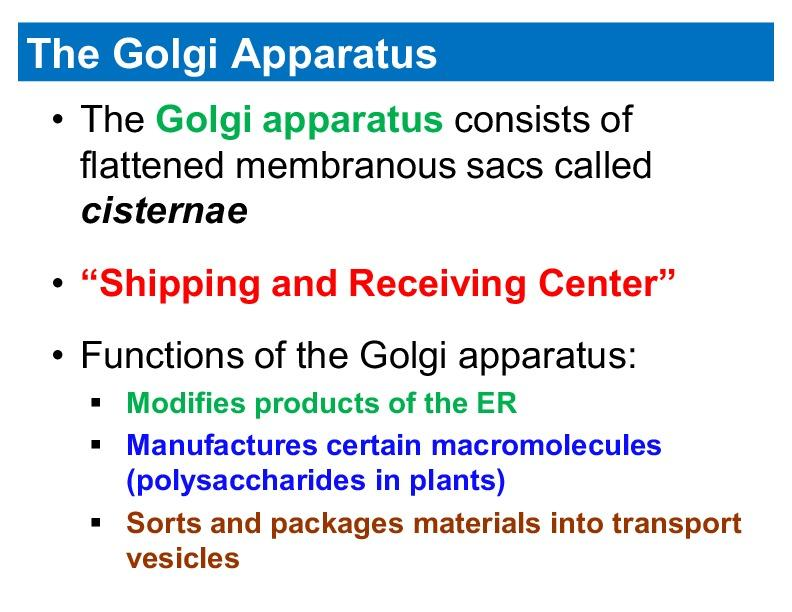paragraph: (46, 98, 762, 598)
title: (11, 10, 456, 92)
